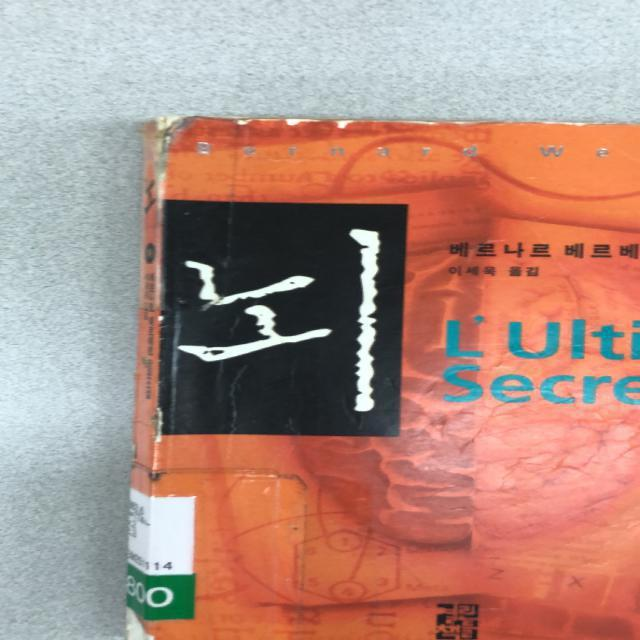Ripped: (134, 108, 201, 212)
Wornout: (204, 114, 360, 139), (364, 114, 515, 138), (520, 114, 630, 139), (148, 405, 171, 446)
